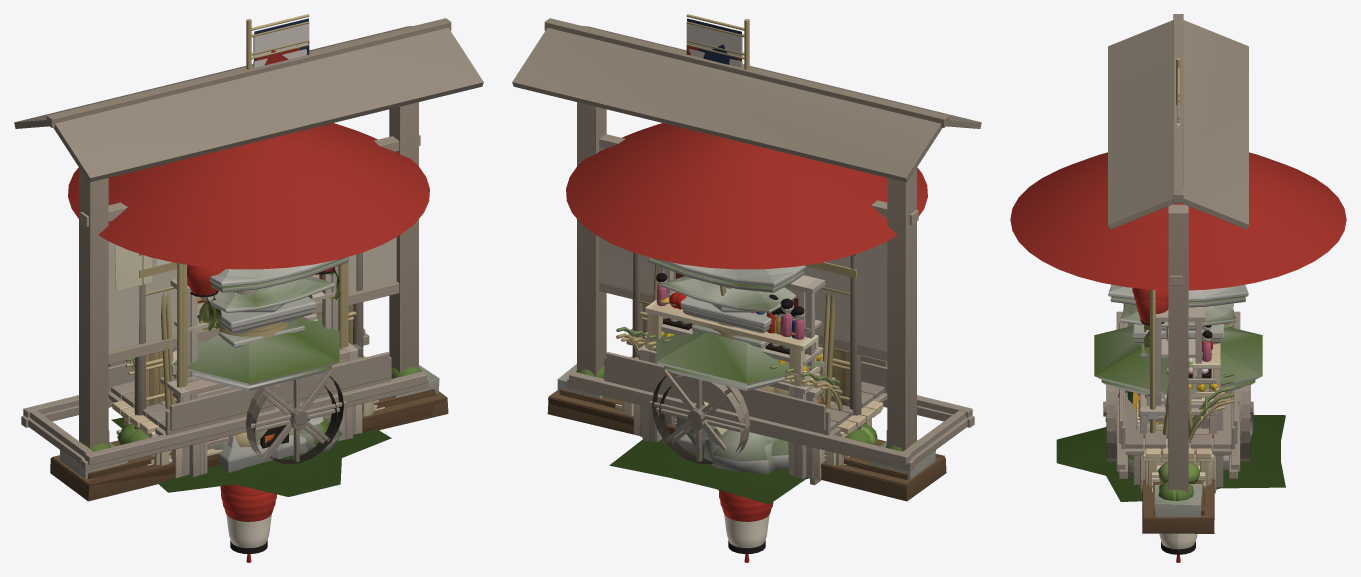
File: decor.glb
3 renders of one model, left to right at view 1: azimuth 30°, elevation 25°; view 2: azimuth 150°, elevation 25°; view 3: azimuth 270°, elevation 25°, orthographic. The views are drawn at different scales.
Visible parts, largest first — view 1: kosatsu_0_lod0, nodategasa_1_lod0, daisha_1_lod0, toro_yukimi_1_lod0, daisha_0_lod0, pierres_jardin_0_lod0, toro_kasuga_1_lod0, potager_rang_1_lod0, toro_kasuga_3_lod0, kenninji_0_lod0, potager_rang_2_lod0, etal_lanternes_1_lod0 (+18 smaller); view 2: kosatsu_0_lod0, nodategasa_1_lod0, daisha_1_lod0, daisha_0_lod0, pierres_jardin_0_lod0, toro_yukimi_1_lod0, toro_kasuga_1_lod0, potager_rang_1_lod0, toro_kasuga_3_lod0, kenninji_0_lod0, pierres_jardin_1_lod0, potager_rang_0_lod0 (+19 smaller); view 3: kosatsu_0_lod0, nodategasa_1_lod0, pierres_jardin_0_lod0, toro_yukimi_1_lod0, daisha_1_lod0, potager_rang_0_lod0, toro_kasuga_1_lod0, daisha_0_lod0, etal_herbes_1_lod0, etal_lanternes_1_lod0, etal_yuzu_1_lod0, toro_kasuga_3_lod0 (+9 smaller).
Part boxes in pixels (<box>): kosatsu_0_lod0: <box>14,18,483,478</box>; nodategasa_1_lod0: <box>68,123,429,269</box>; daisha_1_lod0: <box>23,328,426,465</box>; toro_yukimi_1_lod0: <box>161,315,339,442</box>; daisha_0_lod0: <box>21,333,428,471</box>; pierres_jardin_0_lod0: <box>111,417,391,496</box>; toro_kasuga_1_lod0: <box>209,258,343,472</box>; potager_rang_1_lod0: <box>50,366,445,501</box>; toro_kasuga_3_lod0: <box>200,276,334,347</box>; kenninji_0_lod0: <box>134,252,363,429</box>; potager_rang_2_lod0: <box>51,367,434,485</box>; etal_lanternes_1_lod0: <box>177,256,348,403</box>; kosatsu_0_lod0: <box>512,18,981,479</box>; nodategasa_1_lod0: <box>566,123,927,269</box>; daisha_1_lod0: <box>569,328,972,465</box>; daisha_0_lod0: <box>567,334,974,471</box>; pierres_jardin_0_lod0: <box>609,436,810,504</box>; toro_yukimi_1_lod0: <box>656,331,834,385</box>; toro_kasuga_1_lod0: <box>652,258,806,455</box>; potager_rang_1_lod0: <box>550,388,946,501</box>; toro_kasuga_3_lod0: <box>661,276,795,347</box>; kenninji_0_lod0: <box>632,252,861,429</box>; pierres_jardin_1_lod0: <box>675,417,777,474</box>; potager_rang_0_lod0: <box>547,366,944,498</box>; kosatsu_0_lod0: <box>1108,14,1248,517</box>; nodategasa_1_lod0: <box>1010,152,1346,290</box>; pierres_jardin_0_lod0: <box>1056,415,1285,501</box>; toro_yukimi_1_lod0: <box>1094,326,1262,395</box>; daisha_1_lod0: <box>1103,311,1253,471</box>; potager_rang_0_lod0: <box>1142,462,1214,533</box>; toro_kasuga_1_lod0: <box>1108,284,1248,469</box>; daisha_0_lod0: <box>1105,323,1251,478</box>; etal_herbes_1_lod0: <box>1156,307,1205,428</box>; etal_lanternes_1_lod0: <box>1136,289,1168,432</box>; etal_yuzu_1_lod0: <box>1133,384,1223,487</box>; toro_kasuga_3_lod0: <box>1120,303,1236,358</box>.
Size of what is drawn, in the model's own units: 3.35 by 4.34 by 2.63.
